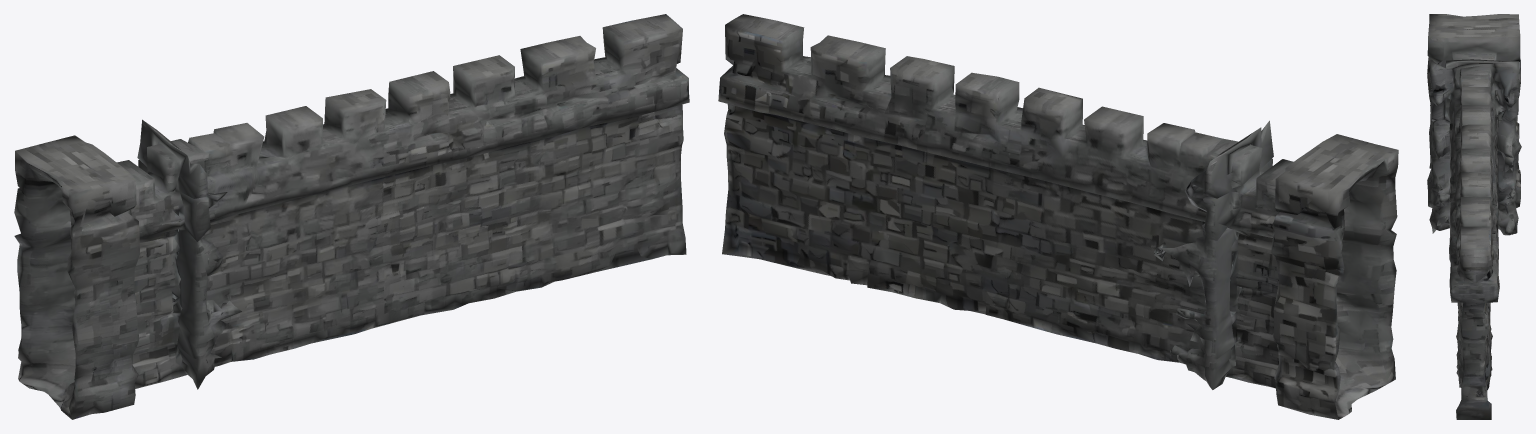
The model's file is castle_wall.glb.
3 views of the same model, side by side, from view 1: azimuth 30°, elevation 25°; view 2: azimuth 150°, elevation 25°; view 3: azimuth 270°, elevation 25° (orthographic). The views are drawn at different scales.
Parts seen in each view (by area): view 1: tripo_node_c4a952de-48fc-4477-946e-60de7acee0ca; view 2: tripo_node_c4a952de-48fc-4477-946e-60de7acee0ca; view 3: tripo_node_c4a952de-48fc-4477-946e-60de7acee0ca.
Part boxes in pixels (x1,y1,x2,y2): tripo_node_c4a952de-48fc-4477-946e-60de7acee0ca: (14,14,689,419); tripo_node_c4a952de-48fc-4477-946e-60de7acee0ca: (718,14,1398,419); tripo_node_c4a952de-48fc-4477-946e-60de7acee0ca: (1427,14,1521,419).
Bounding box in the file's own units: 1 × 0.345 × 0.1709.
1 material, 1 textured.
